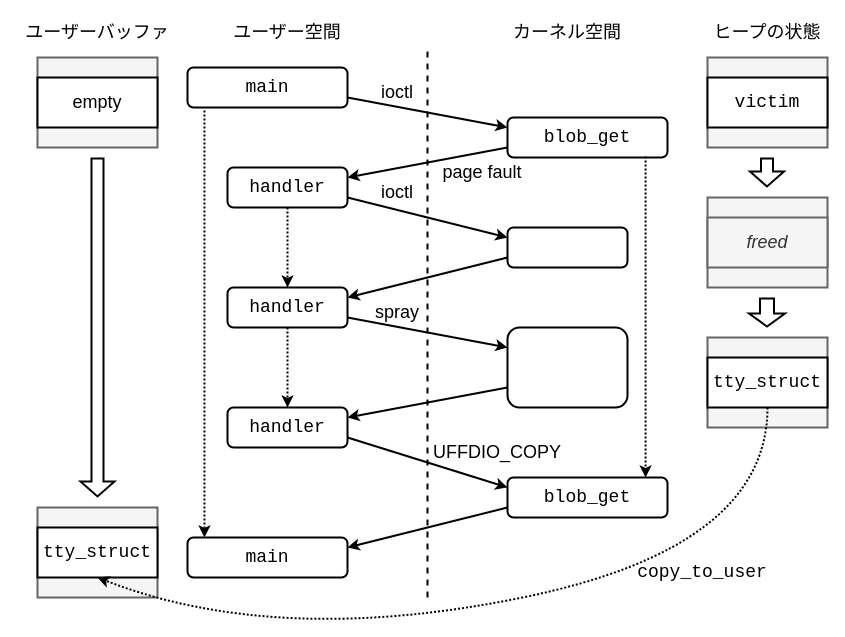
The diagram is 845 pixels wide and 637 high, and some of its shapes have lost their labels. Each missing label, with the centre of its shape:
alloc tty_struct: the point at 567,367
blob_del: the point at 567,247
